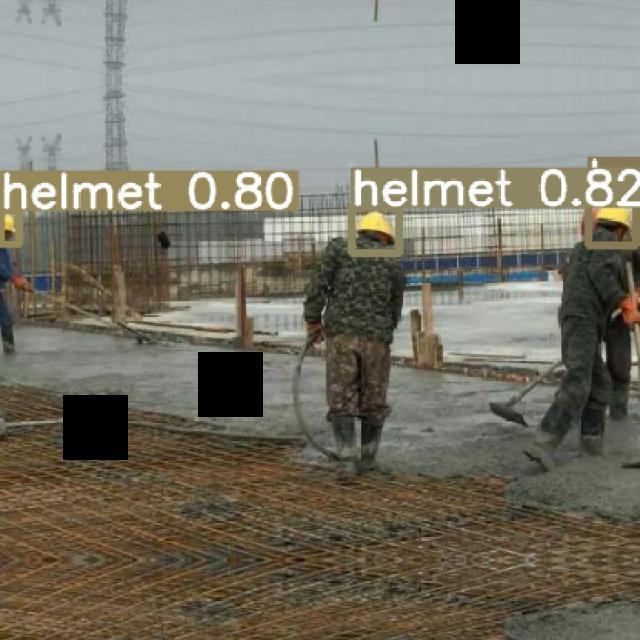yellow helmet: (355, 205, 399, 253), (591, 202, 639, 245), (1, 210, 22, 249)
